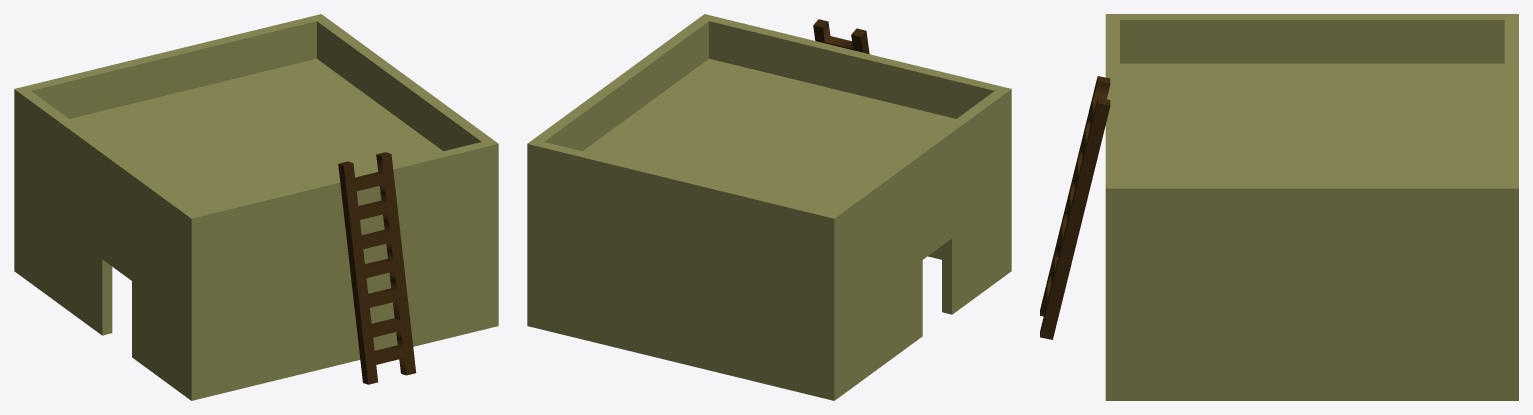
Rendered from Camp2.fbx.
3 views of the same model, side by side, from view 1: azimuth 30°, elevation 25°; view 2: azimuth 150°, elevation 25°; view 3: azimuth 270°, elevation 25° (orthographic). The views are drawn at different scales.
Parts seen in each view (by area): view 1: Camp2, Ladder; view 2: Camp2, Ladder; view 3: Camp2, Ladder.
Part boxes in pixels (left/top/right/bottom): Camp2: left=14, top=14, right=498, bottom=400; Ladder: left=338, top=152, right=416, bottom=384; Camp2: left=527, top=14, right=1011, bottom=400; Ladder: left=813, top=19, right=869, bottom=53; Camp2: left=1105, top=14, right=1518, bottom=400; Ladder: left=1040, top=76, right=1110, bottom=339.
Bounding box in the file's own units: 5.96 × 3.77 × 6.91.
